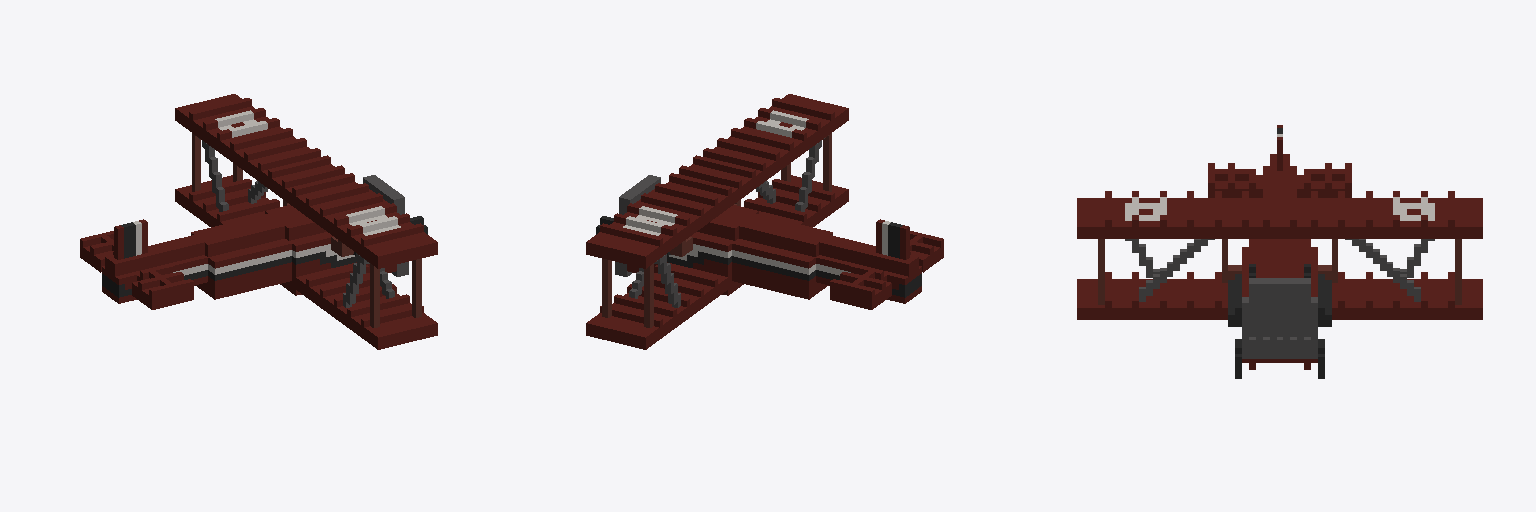
The picture shows the model from 3 angles: view 1: azimuth 30°, elevation 25°; view 2: azimuth 150°, elevation 25°; view 3: azimuth 270°, elevation 25°; orthographic projection.
Visible parts, largest first — view 1: object 1; view 2: object 1; view 3: object 1.
Part boxes in pixels (x1,y1,x2,y2): object 1: (80, 94, 437, 349); object 1: (586, 94, 943, 349); object 1: (1077, 125, 1482, 378).
Size of the model in its own units: 4.9 by 2.4 by 5.9.
1 materials, 1 textured.